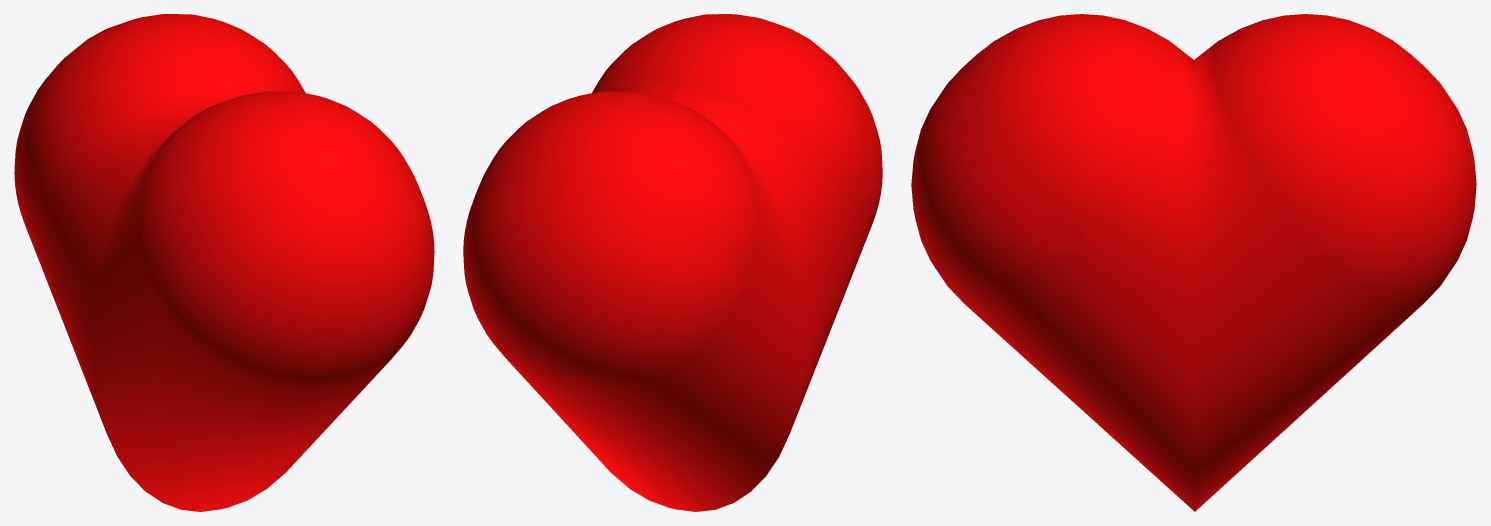
The model's file is heart in blender.glb.
The picture shows the model from 3 angles, left to right: view 1: azimuth 30°, elevation 25°; view 2: azimuth 150°, elevation 25°; view 3: azimuth 270°, elevation 25°; orthographic projection. The views are drawn at different scales.
Visible parts, largest first — view 1: Cube; view 2: Cube; view 3: Cube.
Part boxes in pixels (x1,y1,x2,y2): Cube: [14, 14, 434, 511]; Cube: [463, 14, 882, 511]; Cube: [911, 14, 1476, 511].
Bounding box in the file's own units: 1.93 × 3.11 × 3.4.
